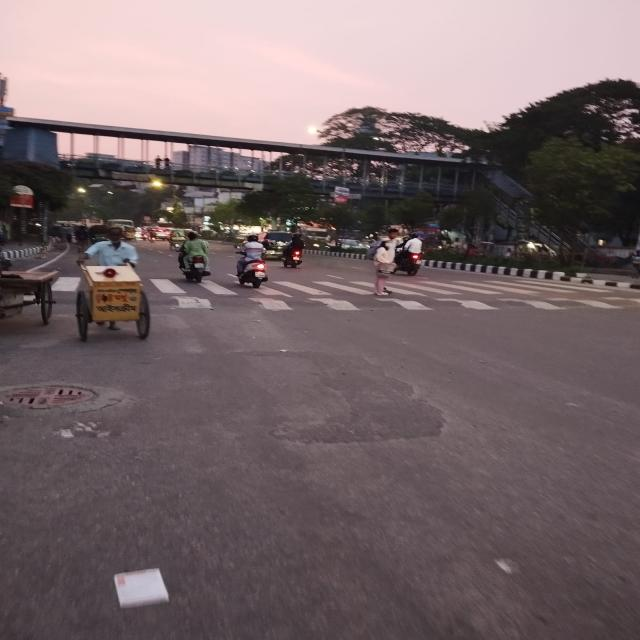person: (372, 229, 398, 296)
